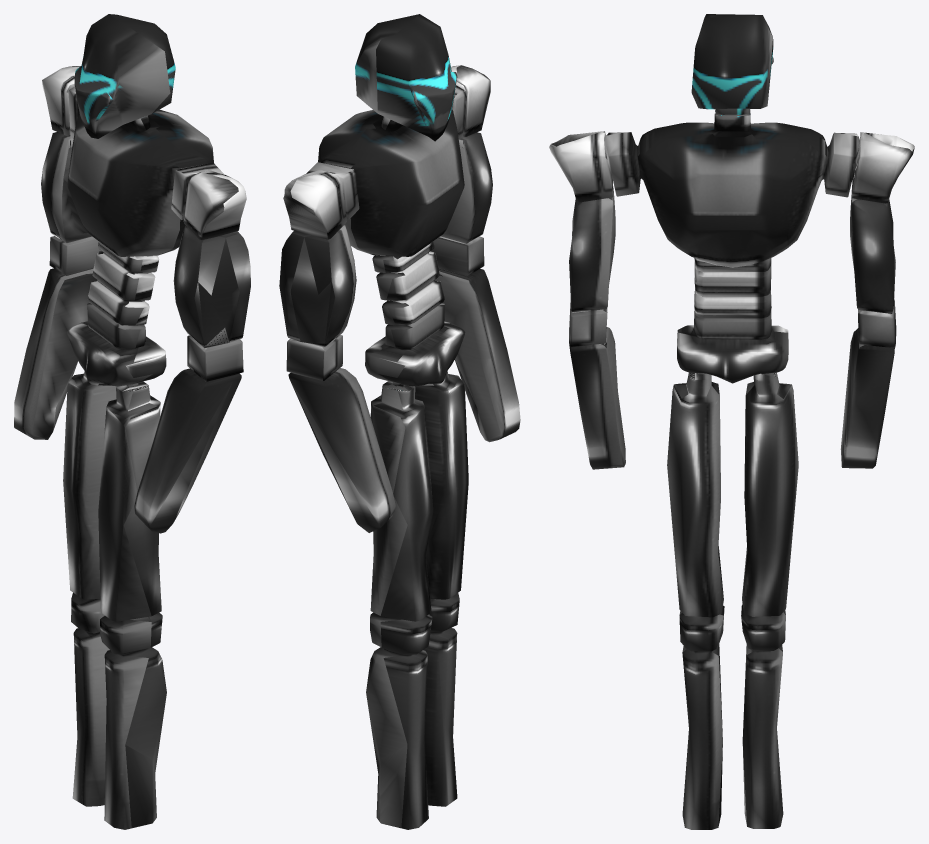
The model's file is frame_001.obj.
The picture shows the model from 3 angles, left to right: view 1: azimuth 30°, elevation 25°; view 2: azimuth 150°, elevation 25°; view 3: azimuth 270°, elevation 25°; orthographic projection. The views are drawn at different scales.
Visible parts, largest first — view 1: Cyborg, PierzaI, PiernaD, Cabeza, BrazoD, AntebrazoD; view 2: Cyborg, PiernaD, PierzaI, AntebrazoD, Cabeza, BrazoD; view 3: Cyborg, PiernaD, PierzaI, AntebrazoD, Cabeza, BrazoD.
Boxes of the visible parts, x1,y1,x2,y2 form: Cyborg: [67, 86, 250, 533]; PierzaI: [98, 381, 166, 829]; PiernaD: [63, 371, 116, 806]; Cabeza: [74, 14, 175, 138]; BrazoD: [14, 268, 97, 439]; AntebrazoD: [41, 66, 101, 275]; Cyborg: [306, 65, 520, 442]; PiernaD: [366, 381, 433, 829]; PierzaI: [415, 371, 468, 806]; AntebrazoD: [279, 170, 356, 380]; Cabeza: [355, 14, 456, 141]; BrazoD: [288, 368, 395, 532]; Cyborg: [549, 108, 859, 469]; PiernaD: [741, 372, 798, 828]; PierzaI: [667, 372, 724, 829]; AntebrazoD: [850, 132, 914, 347]; Cabeza: [691, 14, 773, 109]; BrazoD: [840, 328, 894, 468].
Size of the model in its own units: 3.89 by 24.73 by 10.14.
1 material, 1 textured.
